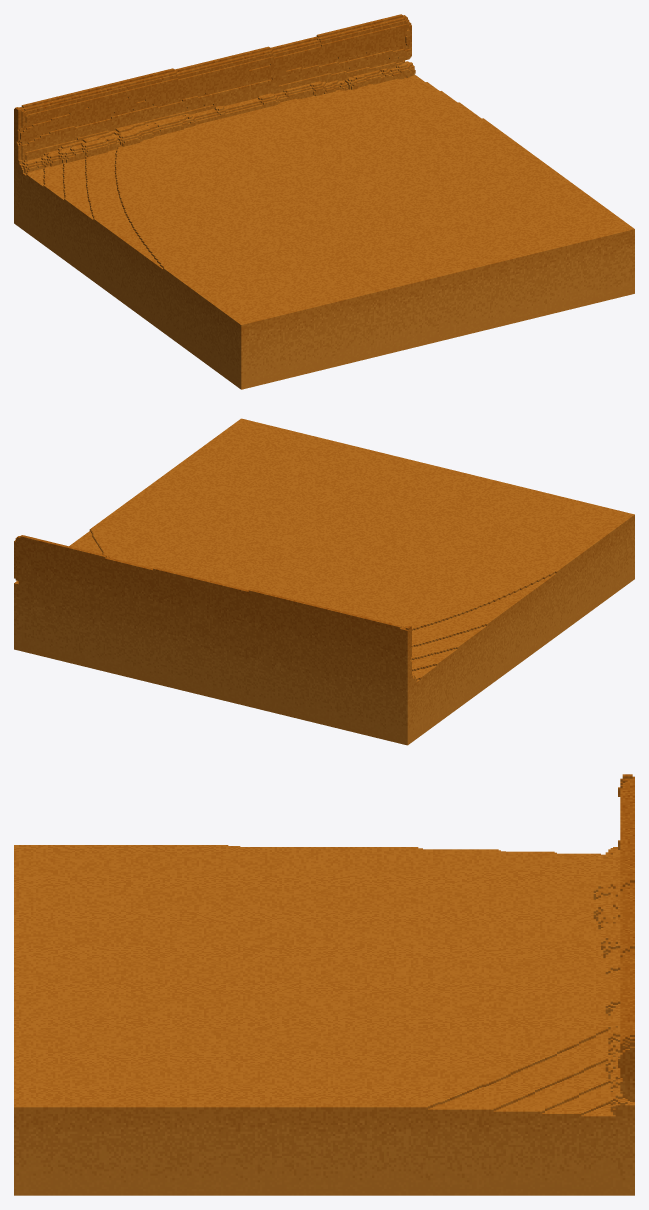
Rendered from Marte-2.obj.
3 renders of one model, top to bottom at view 1: azimuth 30°, elevation 25°; view 2: azimuth 150°, elevation 25°; view 3: azimuth 270°, elevation 25°, orthographic. The views are drawn at different scales.
Bounding box in the file's own units: 25.5 × 7.2 × 25.5.
Materials: 1 (1 with a texture image).
